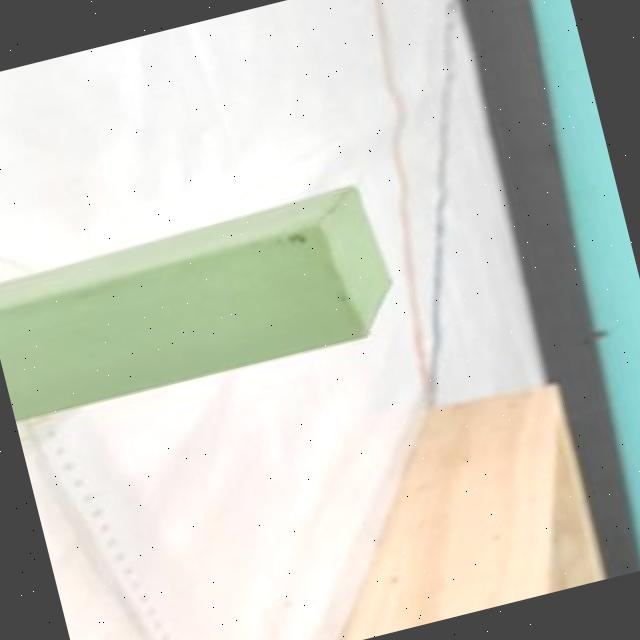greenbox: (0, 173, 409, 428)
